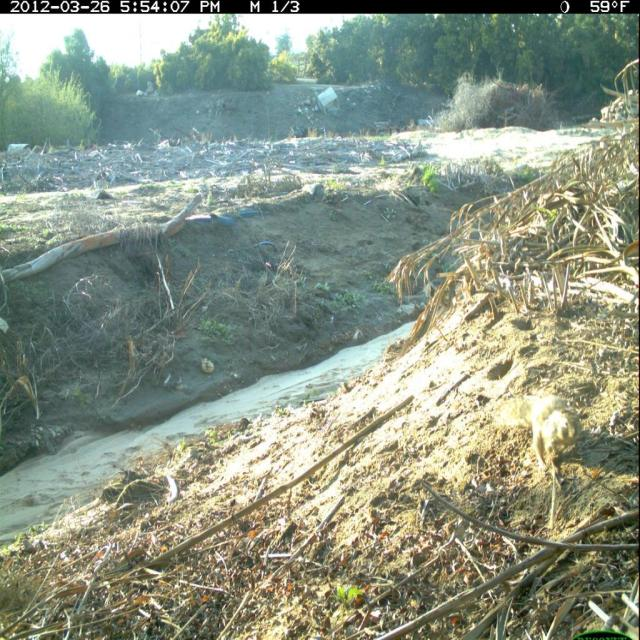squirrel: (492, 389, 587, 479)
